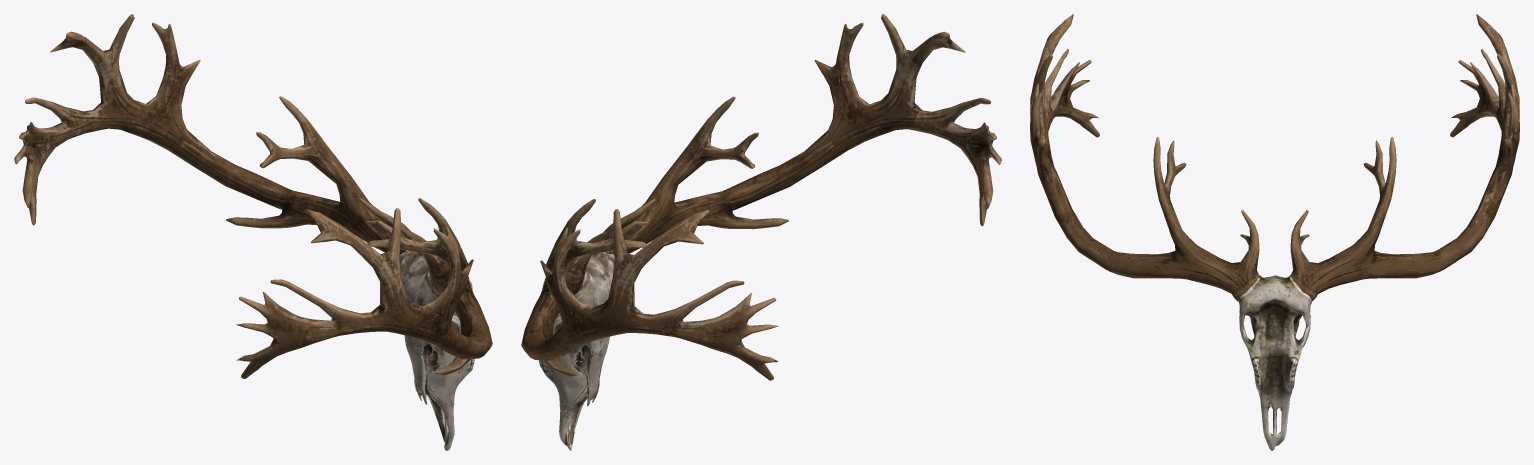
The model's file is SM_Skull.fbx.
3 renders of one model, left to right at view 1: azimuth 30°, elevation 25°; view 2: azimuth 150°, elevation 25°; view 3: azimuth 270°, elevation 25°, orthographic. The views are drawn at different scales.
Visible parts, largest first — view 1: SM_Skull_LOD0; view 2: SM_Skull_LOD0; view 3: SM_Skull_LOD0.
Part boxes in pixels (<box>): SM_Skull_LOD0: <box>14,14,492,450</box>; SM_Skull_LOD0: <box>521,14,1001,450</box>; SM_Skull_LOD0: <box>1030,14,1519,450</box>.
Bounding box in the file's own units: 260 × 385 × 286.
1 material, 1 textured.
